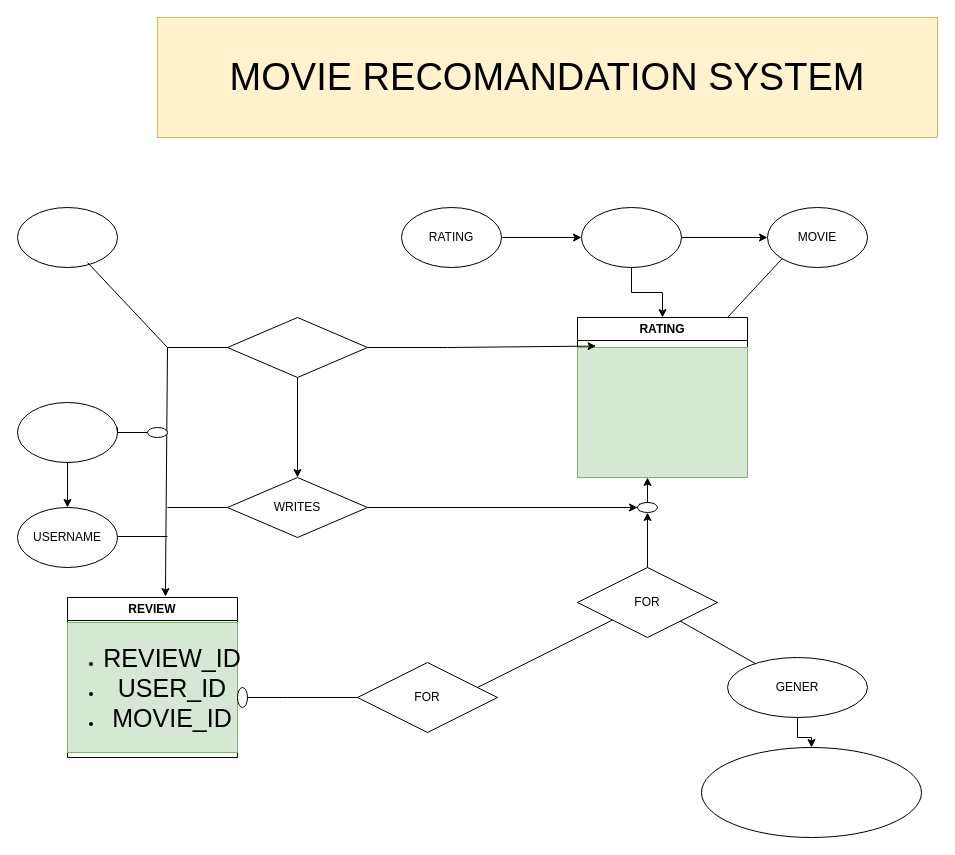
Image size: 955x855. Some labels were removed from this diagram. Each missing label, with the centre of its shape:
"BATING" belongs at (631,237).
"GENER_ID GENER_NAME" belongs at (811,792).
"RATES" belongs at (297,347).
"RATING_ID USER_ID MOVIE_ID RATING" belongs at (662,412).
"USER" belongs at (67,237).
"USER_ID" belongs at (67,432).
